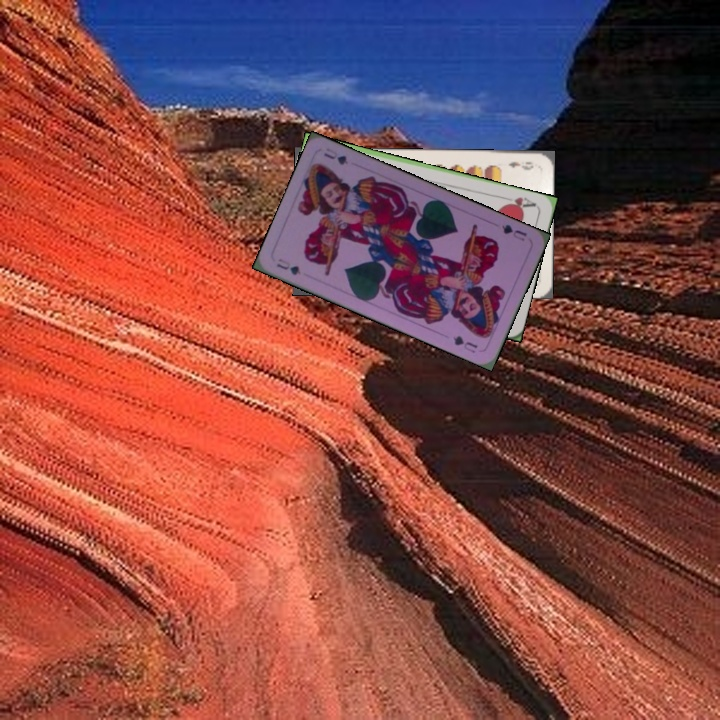E9: (504, 158, 536, 172)
GU: (498, 220, 529, 244), (273, 254, 304, 278)
HA: (499, 192, 539, 212)
